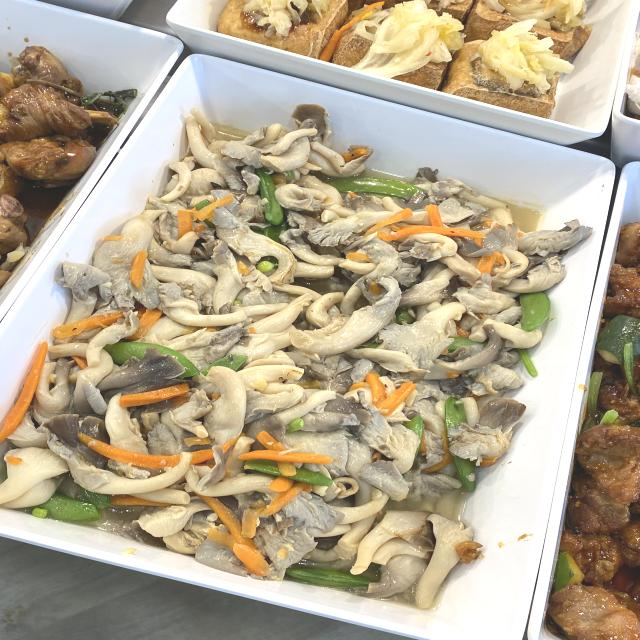Fushan-lettuceStir-fried Sweet Beans with Oyster Mushrooms: (125, 225, 495, 530)
